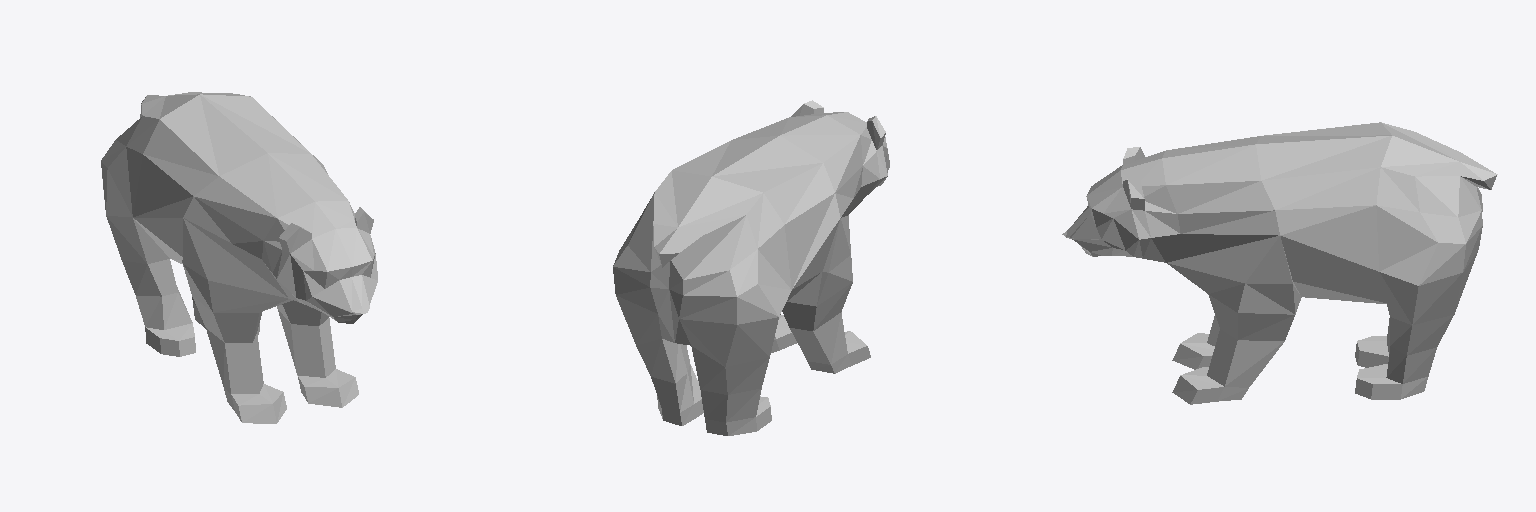
File: blackBear.obj
3 views of the same model, side by side, from view 1: azimuth 30°, elevation 25°; view 2: azimuth 150°, elevation 25°; view 3: azimuth 270°, elevation 25° (orthographic).
Parts seen in each view (by area): view 1: black_bear; view 2: black_bear; view 3: black_bear.
Part boxes in pixels (x1,y1,x2,y2): black_bear: (101,92,377,423); black_bear: (613,100,889,435); black_bear: (1062,122,1497,404).
Size of the model in its own units: 0.8403 by 1.2 by 1.97.